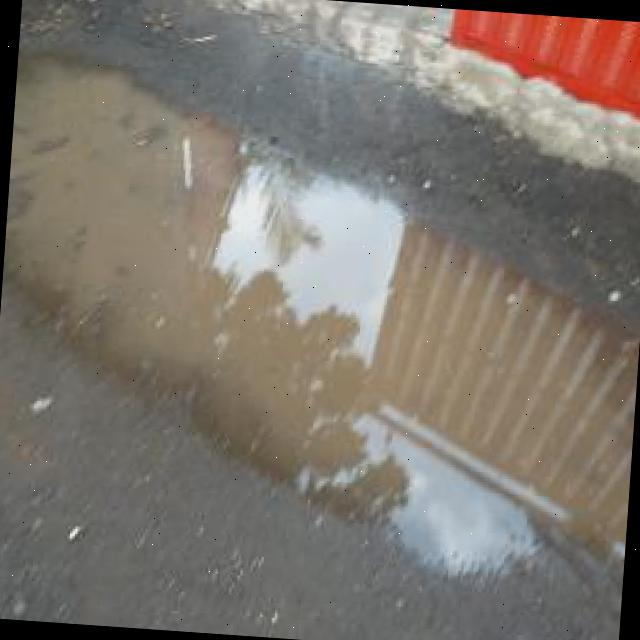stagnation: (1, 8, 636, 594)
